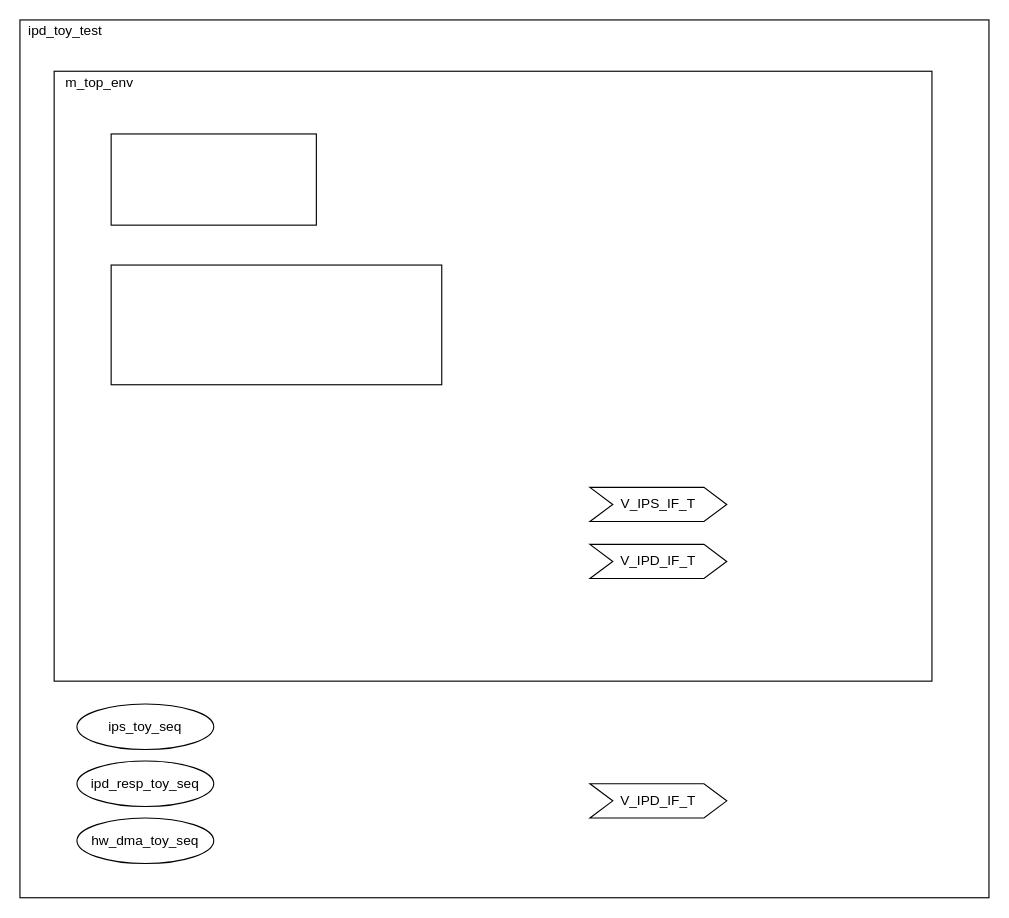
Some shapes in this 1009 by 918 pixel diagram are drawn without their labels. The centre of each missing label's shape, as x and y in pixels:
m_dma_toy_env: (213,179)
m_ips_mem_sequencer: (276,324)
